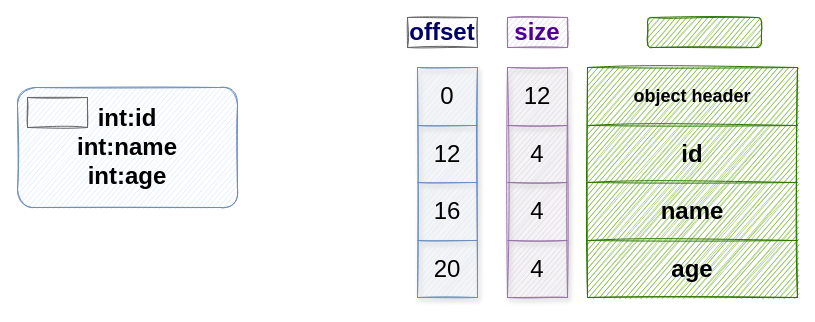
Some shapes in this 815 by 322 pixel diagram are drawn without their labels. The centre of each missing label's shape, as x and y in pixels:
"object" belongs at (x=704, y=32).
"User" belongs at (x=57, y=112).
